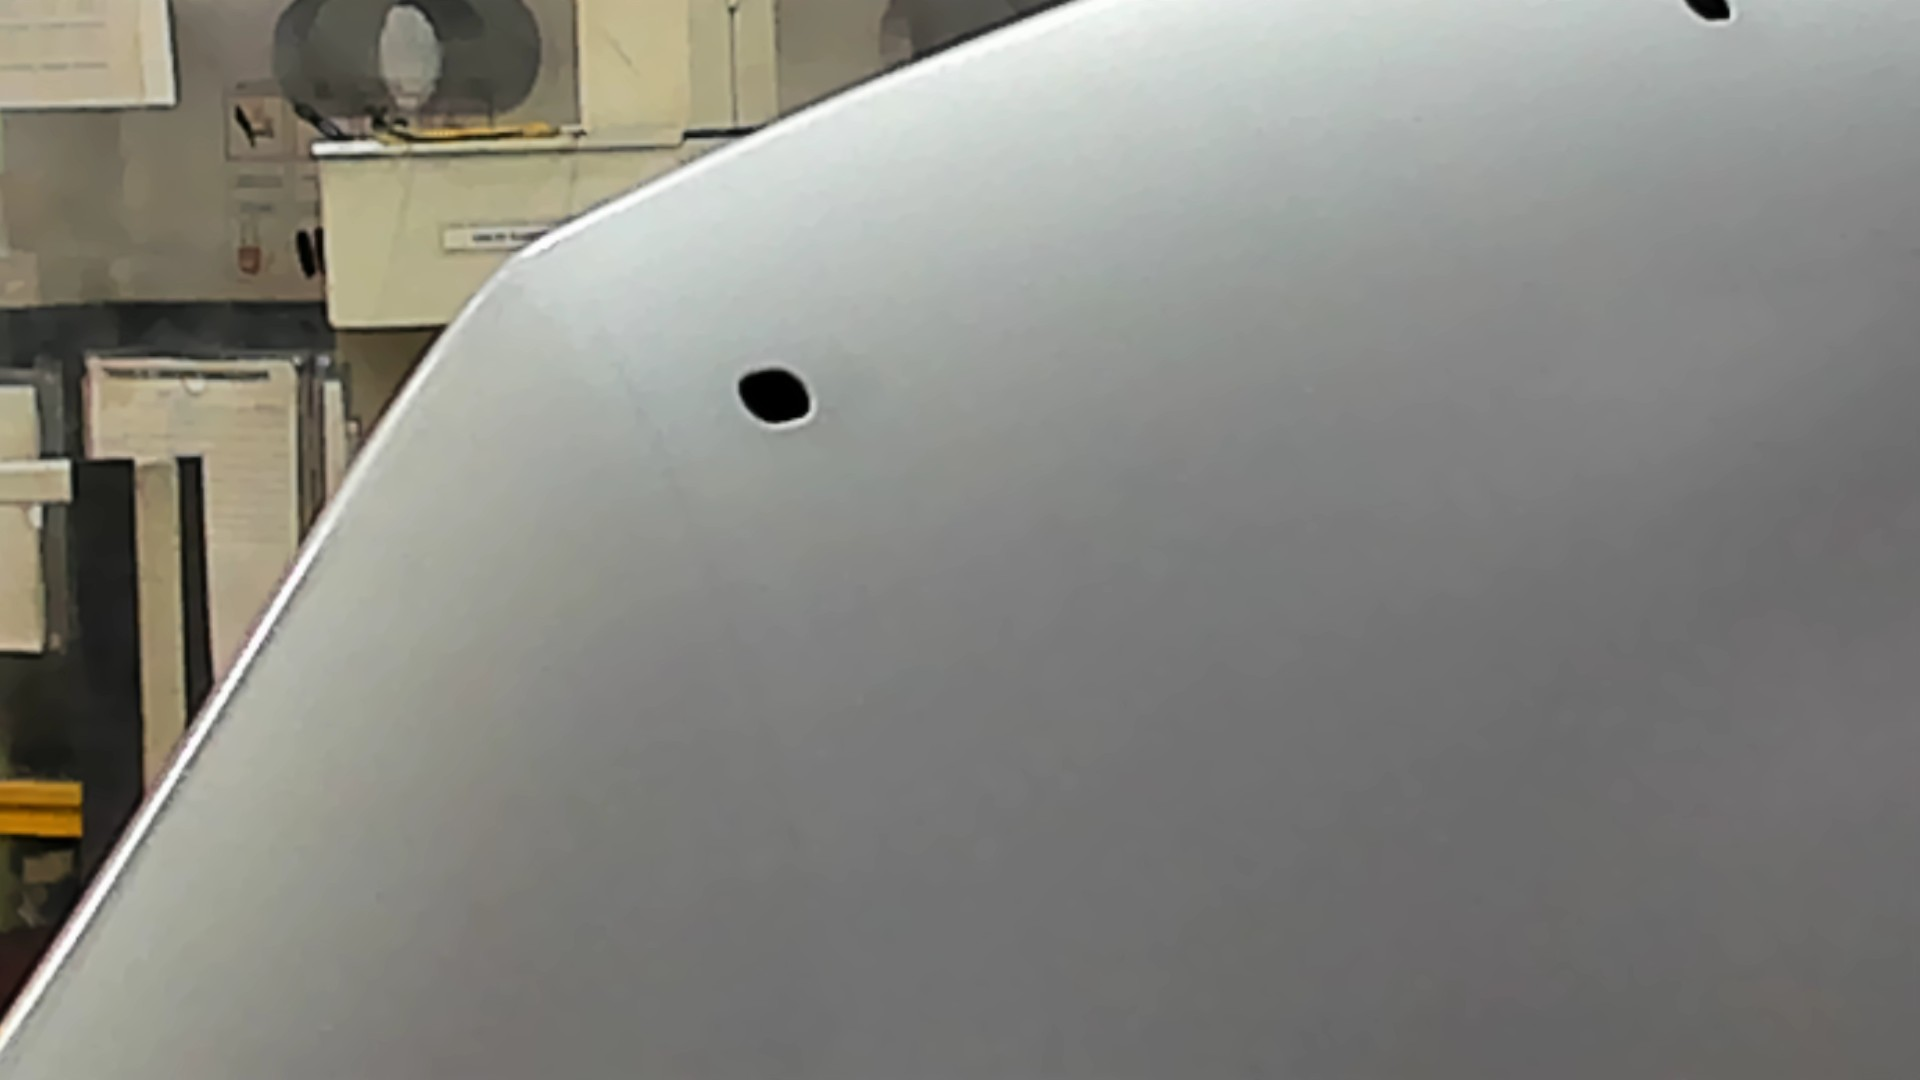Agujero: (735, 361, 818, 429), (1676, 1, 1742, 30)
